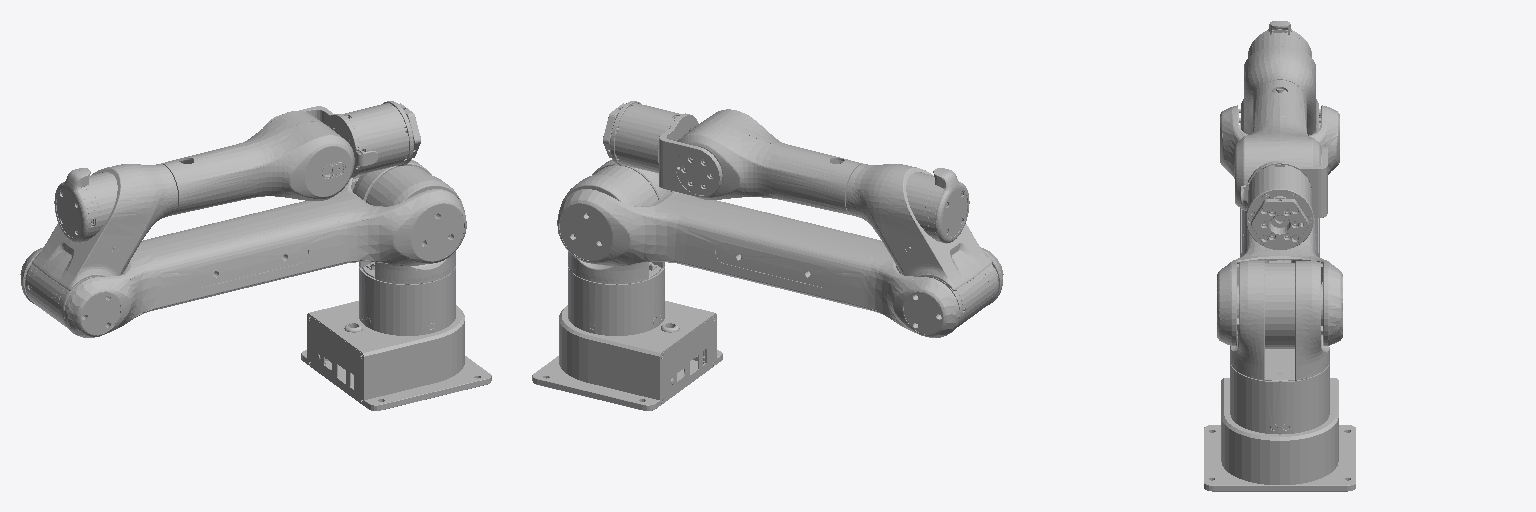
The robot description file, URDF, robot "carm_a3":
<?xml version="1.0" encoding="utf-8"?>
<!-- This URDF was automatically created by SolidWorks to URDF Exporter! Originally created by Stephen Brawner (brawner@gmail.com) 
     Commit Version: 1.5.1-0-g916b5db  Build Version: 1.5.7152.31018
     For more information, please see http://wiki.ros.org/sw_urdf_exporter -->
<robot
  name="carm_a3">
  <link
    name="world" />
  <joint
    name="world_to_base_link"
    type="fixed">
    <origin
      xyz="0 0 0"
      rpy="0 0 0" />
    <parent
      link="world" />
    <child
      link="base_link" />
  </joint>
  <link
    name="base_link">
    <inertial>
      <origin
        xyz="-0.00417913831198338 -2.76962077784436E-05 0.0452053833851515"
        rpy="0 0 0" />
      <mass
        value="1.34054234645234" />
      <inertia
        ixx="0.00121108567707363"
        ixy="-2.11606872578902E-07"
        ixz="1.2130591016219E-05"
        iyy="0.00112889111988113"
        iyz="-6.4110712367573E-07"
        izz="0.00189021484601477" />
    </inertial>
    <visual>
      <origin
        xyz="0 0 0"
        rpy="0 0 0" />
      <geometry>
        <mesh
          filename="package://carm_a3_description/meshes/base_link.STL" />
      </geometry>
      <material
        name="">
        <color
          rgba="0.752941176470588 0.752941176470588 0.752941176470588 1" />
      </material>
    </visual>
    <collision>
      <origin
        xyz="0 0 0"
        rpy="0 0 0" />
      <geometry>
        <mesh
          filename="package://carm_a3_description/meshes/base_link.STL" />
      </geometry>
    </collision>
  </link>
  <link
    name="link1">
    <inertial>
      <origin
        xyz="4.24701849851951E-05 0.00208702464932863 -0.0113964721261459"
        rpy="0 0 0" />
      <mass
        value="1.04078980910831" />
      <inertia
        ixx="0.000608522720485779"
        ixy="8.98822967934078E-07"
        ixz="1.82211781184724E-07"
        iyy="0.000832050915751871"
        iyz="1.19294665215659E-06"
        izz="0.000610174041357029" />
    </inertial>
    <visual>
      <origin
        xyz="0 0 0"
        rpy="0 0 0" />
      <geometry>
        <mesh
          filename="package://carm_a3_description/meshes/link1.STL" />
      </geometry>
      <material
        name="">
        <color
          rgba="0.752941176470588 0.752941176470588 0.752941176470588 1" />
      </material>
    </visual>
    <collision>
      <origin
        xyz="0 0 0"
        rpy="0 0 0" />
      <geometry>
        <mesh
          filename="package://carm_a3_description/meshes/link1.STL" />
      </geometry>
    </collision>
  </link>
  <joint
    name="joint1"
    type="revolute">
    <origin
      xyz="0 0 0.157"
      rpy="0 0 0" />
    <parent
      link="base_link" />
    <child
      link="link1" />
    <axis
      xyz="0 0 1" />
    <limit
      lower="-2.9671"
      upper="2.9671"
      effort="97"
      velocity="6.28" />
  </joint>
  <link
    name="link2">
    <inertial>
      <origin
        xyz="0.159123389889189 -0.000718932632983046 0.000702480823088812"
        rpy="0 0 0" />
      <mass
        value="0.76278095721942" />
      <inertia
        ixx="0.000282035904102345"
        ixy="1.03745447367783E-05"
        ixz="2.21593621692068E-06"
        iyy="0.00349499050057046"
        iyz="8.55546208617917E-08"
        izz="0.00351611282619752" />
    </inertial>
    <visual>
      <origin
        xyz="0 0 0"
        rpy="0 0 0" />
      <geometry>
        <mesh
          filename="package://carm_a3_description/meshes/link2.STL" />
      </geometry>
      <material
        name="">
        <color
          rgba="0.752941176470588 0.752941176470588 0.752941176470588 1" />
      </material>
    </visual>
    <collision>
      <origin
        xyz="0 0 0"
        rpy="0 0 0" />
      <geometry>
        <mesh
          filename="package://carm_a3_description/meshes/link2.STL" />
      </geometry>
    </collision>
  </link>
  <joint
    name="joint2"
    type="revolute">
    <origin
      xyz="0 0 0"
      rpy="1.5708 0 3.1416" />
    <parent
      link="link1" />
    <child
      link="link2" />
    <axis
      xyz="0 0 1" />
    <limit
      lower="0"
      upper="3.1416"
      effort="97"
      velocity="6.28" />
  </joint>
  <link
    name="link3">
    <inertial>
      <origin
        xyz="0.0378861074785143 0.0162664023220562 0.000742234222590544"
        rpy="0 0 0" />
      <mass
        value="0.907122224021925" />
      <inertia
        ixx="0.000388548778417176"
        ixy="-3.84765486941333E-05"
        ixz="5.04303402824083E-08"
        iyy="0.00039651616204773"
        iyz="2.15543419695664E-08"
        izz="0.000465350290748233" />
    </inertial>
    <visual>
      <origin
        xyz="0 0 0"
        rpy="0 0 0" />
      <geometry>
        <mesh
          filename="package://carm_a3_description/meshes/link3.STL" />
      </geometry>
      <material
        name="">
        <color
          rgba="0.752941176470588 0.752941176470588 0.752941176470588 1" />
      </material>
    </visual>
    <collision>
      <origin
        xyz="0 0 0"
        rpy="0 0 0" />
      <geometry>
        <mesh
          filename="package://carm_a3_description/meshes/link3.STL" />
      </geometry>
    </collision>
  </link>
  <joint
    name="joint3"
    type="revolute">
    <origin
      xyz="0.35 0 0"
      rpy="0 0 1.5708" />
    <parent
      link="link2" />
    <child
      link="link3" />
    <axis
      xyz="0 0 1" />
    <limit
      lower="-3.1416"
      upper="0"
      effort="40"
      velocity="10" />
  </joint>
  <link
    name="link4">
    <inertial>
      <origin
        xyz="-0.00013015875247141 -0.00120727641520348 -0.0372980711063461"
        rpy="0 0 0" />
      <mass
        value="0.638130377014533" />
      <inertia
        ixx="0.000596296330783302"
        ixy="7.21482368644724E-07"
        ixz="-1.97851897422733E-06"
        iyy="0.000625400751247167"
        iyz="-1.53212531990098E-05"
        izz="0.000223972467067503" />
    </inertial>
    <visual>
      <origin
        xyz="0 0 0"
        rpy="0 0 0" />
      <geometry>
        <mesh
          filename="package://carm_a3_description/meshes/link4.STL" />
      </geometry>
      <material
        name="">
        <color
          rgba="0.752941176470588 0.752941176470588 0.752941176470588 1" />
      </material>
    </visual>
    <collision>
      <origin
        xyz="0 0 0"
        rpy="0 0 0" />
      <geometry>
        <mesh
          filename="package://carm_a3_description/meshes/link4.STL" />
      </geometry>
    </collision>
  </link>
  <joint
    name="joint4"
    type="revolute">
    <origin
      xyz="0.079 0.242 0"
      rpy="-1.5708 0 0" />
    <parent
      link="link3" />
    <child
      link="link4" />
    <axis
      xyz="0 0 1" />
    <limit
      lower="-2.6704"
      upper="2.6704"
      effort="40"
      velocity="10" />
  </joint>
  <link
    name="link5">
    <inertial>
      <origin
        xyz="-5.16043021026591E-05 0.0602527591713593 0.00573732389216532"
        rpy="0 0 0" />
      <mass
        value="0.445060188173882" />
      <inertia
        ixx="0.000199827093871247"
        ixy="-8.53360092923471E-07"
        ixz="-7.32244032299957E-08"
        iyy="0.000192756759234306"
        iyz="2.03018250890979E-05"
        izz="0.000184053586918881" />
    </inertial>
    <visual>
      <origin
        xyz="0 0 0"
        rpy="0 0 0" />
      <geometry>
        <mesh
          filename="package://carm_a3_description/meshes/link5.STL" />
      </geometry>
      <material
        name="">
        <color
          rgba="0.752941176470588 0.752941176470588 0.752941176470588 1" />
      </material>
    </visual>
    <collision>
      <origin
        xyz="0 0 0"
        rpy="0 0 0" />
      <geometry>
        <mesh
          filename="package://carm_a3_description/meshes/link5.STL" />
      </geometry>
    </collision>
  </link>
  <joint
    name="joint5"
    type="revolute">
    <origin
      xyz="0 0 0"
      rpy="1.5708 0 0" />
    <parent
      link="link4" />
    <child
      link="link5" />
    <axis
      xyz="0 0 1" />
    <limit
      lower="-1.5708"
      upper="1.5708"
      effort="40"
      velocity="10" />
  </joint>
  <link
    name="link6">
    <inertial>
      <origin
        xyz="-0.000105936669902662 6.74699306710059E-05 -0.00631058732438214"
        rpy="0 0 0" />
      <mass
        value="0.0421256522970801" />
      <inertia
        ixx="5.27516380865188E-06"
        ixy="-3.89822033475575E-10"
        ixz="-1.32816266881601E-08"
        iyy="5.41898561538116E-06"
        iyz="-5.50257198520904E-09"
        izz="9.60414014186417E-06" />
    </inertial>
    <visual>
      <origin
        xyz="0 0 0"
        rpy="0 0 0" />
      <geometry>
        <mesh
          filename="package://carm_a3_description/meshes/link6.STL" />
      </geometry>
      <material
        name="">
        <color
          rgba="0.752941176470588 0.752941176470588 0.752941176470588 1" />
      </material>
    </visual>
    <collision>
      <origin
        xyz="0 0 0"
        rpy="0 0 0" />
      <geometry>
        <mesh
          filename="package://carm_a3_description/meshes/link6.STL" />
      </geometry>
    </collision>
  </link>
  <joint
    name="joint6"
    type="revolute">
    <origin
      xyz="0 0.108 0"
      rpy="-1.5708 0 0" />
    <parent
      link="link5" />
    <child
      link="link6" />
    <axis
      xyz="0 0 1" />
    <limit
      lower="-2.8275"
      upper="2.8275"
      effort="40"
      velocity="10" />
  </joint>
  <link
    name="flange" />
  <joint
    name="link6_to_flange"
    type="fixed">
    <origin
      xyz="0 0 0"
      rpy="0 0 0" />
    <parent
      link="link6" />
    <child
      link="flange" />
  </joint>
  <link
    name="gripper_base">
    <inertial>
      <origin
        xyz="4.89593580243485E-06 -2.79261660692539E-05 0.0336306034256955"
        rpy="0 0 0" />
      <mass
        value="0.537306336668519" />
      <inertia
        ixx="0.00025506262513351"
        ixy="-8.16301234165744E-07"
        ixz="1.87273262843196E-09"
        iyy="0.000136093891983897"
        iyz="-1.28240035983322E-07"
        izz="0.000331950713285236" />
    </inertial>
    <visual>
      <origin
        xyz="0 0 0"
        rpy="0 0 0" />
      <geometry>
        <mesh
          filename="package://carm_a3_description/meshes/gripper_base.STL" />
      </geometry>
      <material
        name="">
        <color
          rgba="0.752941176470588 0.752941176470588 0.752941176470588 1" />
      </material>
    </visual>
    <collision>
      <origin
        xyz="0 0 0"
        rpy="0 0 0" />
      <geometry>
        <mesh
          filename="package://carm_a3_description/meshes/gripper_base.STL" />
      </geometry>
    </collision>
  </link>
  <joint
    name="joint6_to_gripper_base"
    type="fixed">
    <origin
      xyz="0.064891 0.005939 -0.035486"
      rpy="3.141592654 -0.002999991 3.141592654" />
    <parent
      link="flange" />
    <child
      link="gripper_base" />
  </joint>  
  <link
    name="gripper_tcp" />
  <joint
    name="gripper_base_to_tcp"
    type="fixed">
    <origin
      xyz="0 0 -0.149"
      rpy="0 0 0" />
    <parent
      link="gripper_base" />
    <child
      link="gripper_tcp" />
  </joint>
  <link
    name="gripper_right">
    <inertial>
      <origin
        xyz="-0.00119999830259251 -0.0068017764750606 -0.00828189774110881"
        rpy="0 0 0" />
      <mass
        value="0.0836748962697291" />
      <inertia
        ixx="1.28447236902658E-05"
        ixy="-1.31586539542703E-12"
        ixz="2.51060291849457E-13"
        iyy="9.36611746344693E-06"
        iyz="9.98513535366314E-07"
        izz="1.82593554269922E-05" />
    </inertial>
    <visual>
      <origin
        xyz="0 0 0"
        rpy="0 0 0" />
      <geometry>
        <mesh
          filename="package://carm_a3_description/meshes/gripper_right.STL" />
      </geometry>
      <material
        name="">
        <color
          rgba="0.752941176470588 0.752941176470588 0.752941176470588 1" />
      </material>
    </visual>
    <collision>
      <origin
        xyz="0 0 0"
        rpy="0 0 0" />
      <geometry>
        <mesh
          filename="package://carm_a3_description/meshes/gripper_right.STL" />
      </geometry>
    </collision>
  </link>
  <joint
    name="joint7"
    type="prismatic">
    <origin
      xyz="0.0012 -0.0217 0.081"
      rpy="1.5708 0 0" />
    <parent
      link="gripper_base" />
    <child
      link="gripper_right" />
    <axis
      xyz="0 0 1" />
    <limit
      lower="0"
      upper="0.037"
      effort="27"
      velocity="10" />
  </joint>
  <link
    name="gripper_left">
    <inertial>
      <origin
        xyz="0.00120000169738422 -0.00680177647501988 -0.0082818977411101"
        rpy="0 0 0" />
      <mass
        value="0.0836748962697291" />
      <inertia
        ixx="1.28447236902712E-05"
        ixy="-1.31587760368984E-12"
        ixz="2.51061322210124E-13"
        iyy="9.36611746344158E-06"
        iyz="9.98513535358944E-07"
        izz="1.82593554269922E-05" />
    </inertial>
    <visual>
      <origin
        xyz="0 0 0"
        rpy="0 0 0" />
      <geometry>
        <mesh
          filename="package://carm_a3_description/meshes/gripper_left.STL" />
      </geometry>
      <material
        name="">
        <color
          rgba="0.752941176470588 0.752941176470588 0.752941176470588 1" />
      </material>
    </visual>
    <collision>
      <origin
        xyz="0 0 0"
        rpy="0 0 0" />
      <geometry>
        <mesh
          filename="package://carm_a3_description/meshes/gripper_left.STL" />
      </geometry>
    </collision>
  </link>
  <joint
    name="joint8"
    type="prismatic">
    <origin
      xyz="0.0012 0.0217 0.081"
      rpy="1.5708 0 3.1416" />
    <parent
      link="gripper_base" />
    <child
      link="gripper_left" />
    <axis
      xyz="0 0 1" />
    <mimic joint="joint7" multiplier="1" offset="0" />
    <limit
      lower="0"
      upper="0.037"
      effort="27"
      velocity="10" />
  </joint>
</robot>

--- Render facts (derived) ---
Views: 3 orthographic renders of the robot side by side, from view 1: azimuth 30°, elevation 25°; view 2: azimuth 150°, elevation 25°; view 3: azimuth 270°, elevation 25°.
Robot: carm_a3 — 13 links, 12 joints (6 revolute, 2 prismatic, 4 fixed); root link world; default pose: all joints at 0.
Visible links, largest first — view 1: link2, base_link, link3, link4, link5, link1; view 2: link2, base_link, link3, link4, link5, link1; view 3: base_link, link1, link2, link4, link3, link5, link6.
Boxes of the visible links, x1=… form: link2: x1=20, y1=174, x2=466, y2=337; base_link: x1=301, y1=267, x2=491, y2=410; link3: x1=25, y1=164, x2=177, y2=328; link4: x1=161, y1=111, x2=354, y2=214; link5: x1=263, y1=101, x2=413, y2=178; link1: x1=353, y1=159, x2=462, y2=284; link2: x1=557, y1=189, x2=1003, y2=337; base_link: x1=532, y1=267, x2=722, y2=410; link3: x1=846, y1=164, x2=998, y2=329; link4: x1=677, y1=109, x2=862, y2=214; link5: x1=610, y1=101, x2=721, y2=197; link1: x1=561, y1=159, x2=670, y2=284; base_link: x1=1204, y1=363, x2=1355, y2=491; link1: x1=1230, y1=261, x2=1329, y2=381; link2: x1=1217, y1=105, x2=1342, y2=345; link4: x1=1235, y1=80, x2=1320, y2=210; link3: x1=1238, y1=21, x2=1320, y2=135; link5: x1=1240, y1=146, x2=1327, y2=249; link6: x1=1251, y1=199, x2=1308, y2=247.
Size in the robot's own frame: 0.4311 by 0.135 by 0.275 metres.
Meshes: 10 distinct files referenced, 7 mesh visuals loaded (7 binary STL); not drawn: 3 (reference not matched to a file when rendering).
